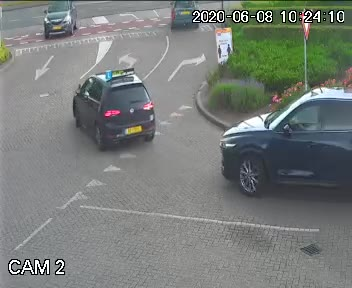car: (207, 79, 352, 208), (66, 58, 159, 163), (35, 0, 81, 47), (164, 0, 205, 39)
